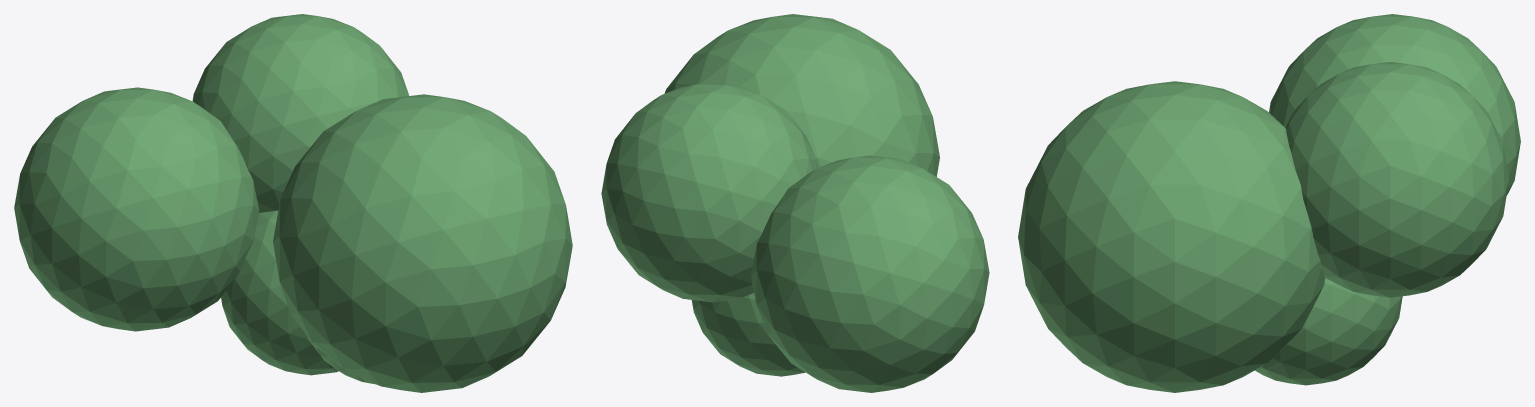
The model's file is dead_bush.glb.
3 views of the same model, side by side, from view 1: azimuth 30°, elevation 25°; view 2: azimuth 150°, elevation 25°; view 3: azimuth 270°, elevation 25° (orthographic). The views are drawn at different scales.
Visible parts, largest first — view 1: bush_0_2, bush_0_3, bush_0_1, bush_0_0; view 2: bush_0_3, bush_0_1, bush_0_2, bush_0_0; view 3: bush_0_2, bush_0_1, bush_0_3, bush_0_0.
Boxes of the visible parts, box(x1,y1,x2,y2) form: bush_0_2: box(273, 94, 572, 392); bush_0_3: box(14, 87, 259, 331); bush_0_1: box(192, 14, 409, 212); bush_0_0: box(221, 210, 338, 375); bush_0_3: box(751, 155, 989, 392); bush_0_1: box(601, 82, 818, 302); bush_0_2: box(664, 14, 939, 176); bush_0_0: box(691, 293, 805, 376); bush_0_2: box(1018, 81, 1325, 392); bush_0_1: box(1285, 62, 1508, 297); bush_0_3: box(1269, 14, 1520, 195); bush_0_0: box(1255, 278, 1402, 385).
Size of the model in its own units: 1.1 by 0.7696 by 1.1.
